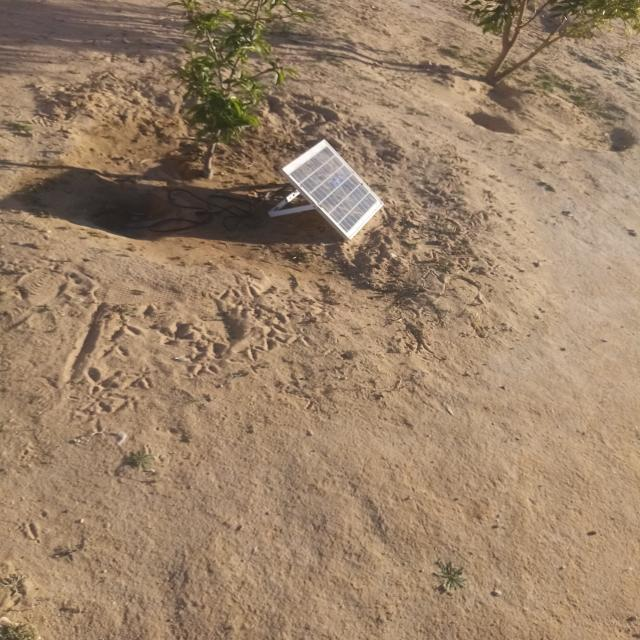faulty: (283, 140, 384, 239)
